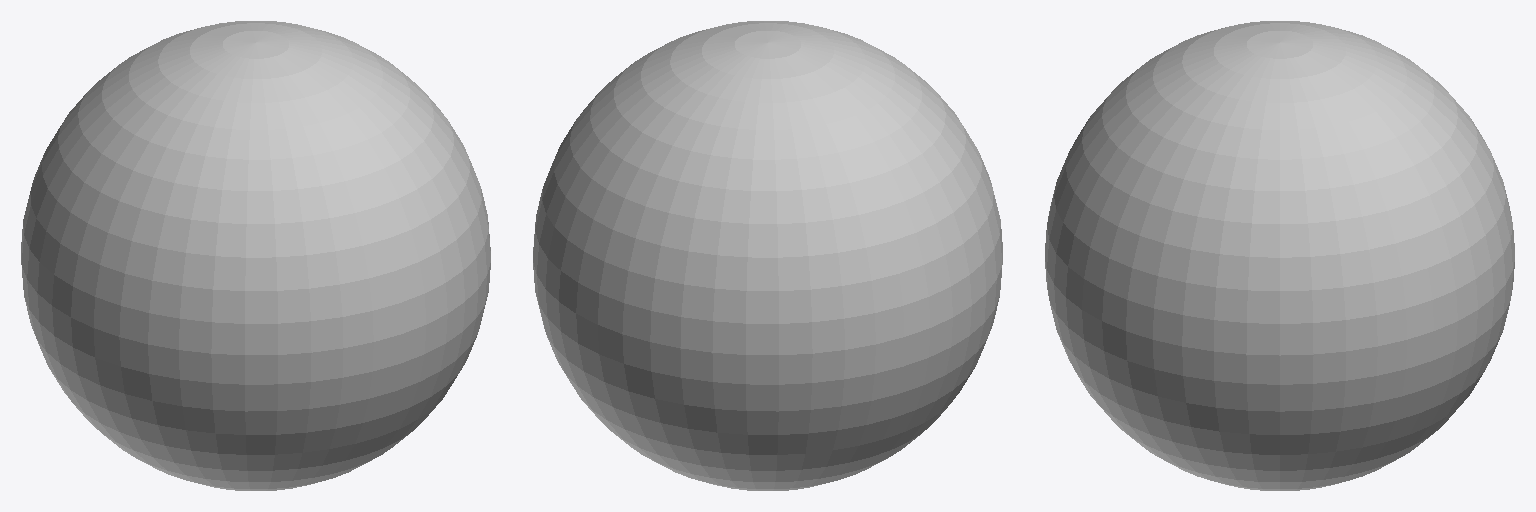
File: planet.obj
3 renders of one model, left to right at view 1: azimuth 30°, elevation 25°; view 2: azimuth 150°, elevation 25°; view 3: azimuth 270°, elevation 25°, orthographic.
Visible parts, largest first — view 1: new_planet_Plane.003; view 2: new_planet_Plane.003; view 3: new_planet_Plane.003.
Boxes of the visible parts, <box> form: new_planet_Plane.003: <box>21,21,490,490</box>; new_planet_Plane.003: <box>533,21,1002,490</box>; new_planet_Plane.003: <box>1045,21,1514,490</box>.
Size of the model in its own units: 1.34 by 1.34 by 1.34.